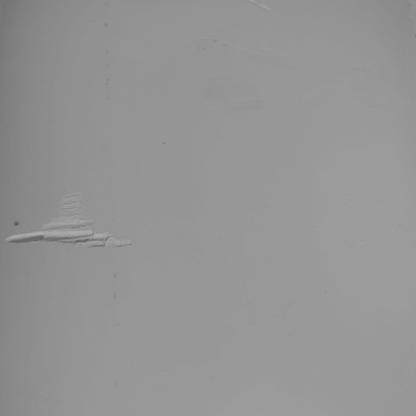sunshang: (2, 191, 134, 252)
